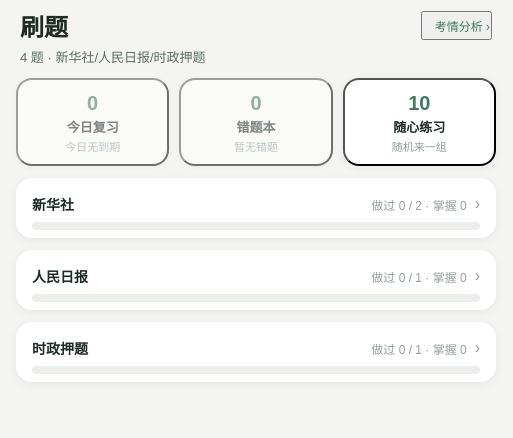
it: PracticeView 刷题主页 › 渲染标题、工具行角标与机构分类树（无记录时进度为 0）
expect the number of buttons with class "tool-card" is 3: met, box [16,78,169,166]; [179,78,333,166]; [343,78,496,166]
expect the button with class "tool-card" shows "今日复习": met, box [16,78,169,166]
What coordinates should you click on to do the following:
click the element with class "tree-head" showing "新华社 做过 0 / 2 · 掌握 0 ›"
I would click on:
 (53, 205)
Its box is [32,194,480,214].
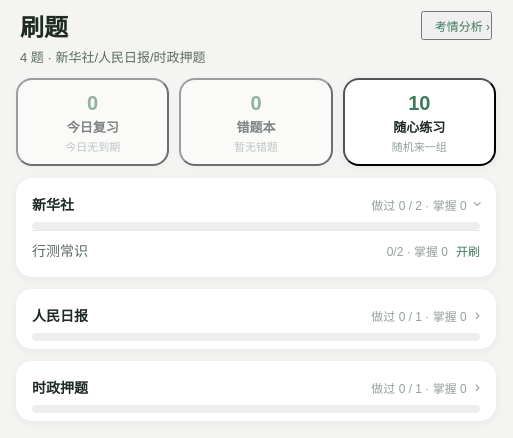
expect the text "行测常识" is shown: met, box [32,240,88,260]
expect the number of elements with class "leaf" is 1: met, box [32,230,480,269]
expect the element with class "leaf" shows "行测常识": met, box [32,243,88,259]
